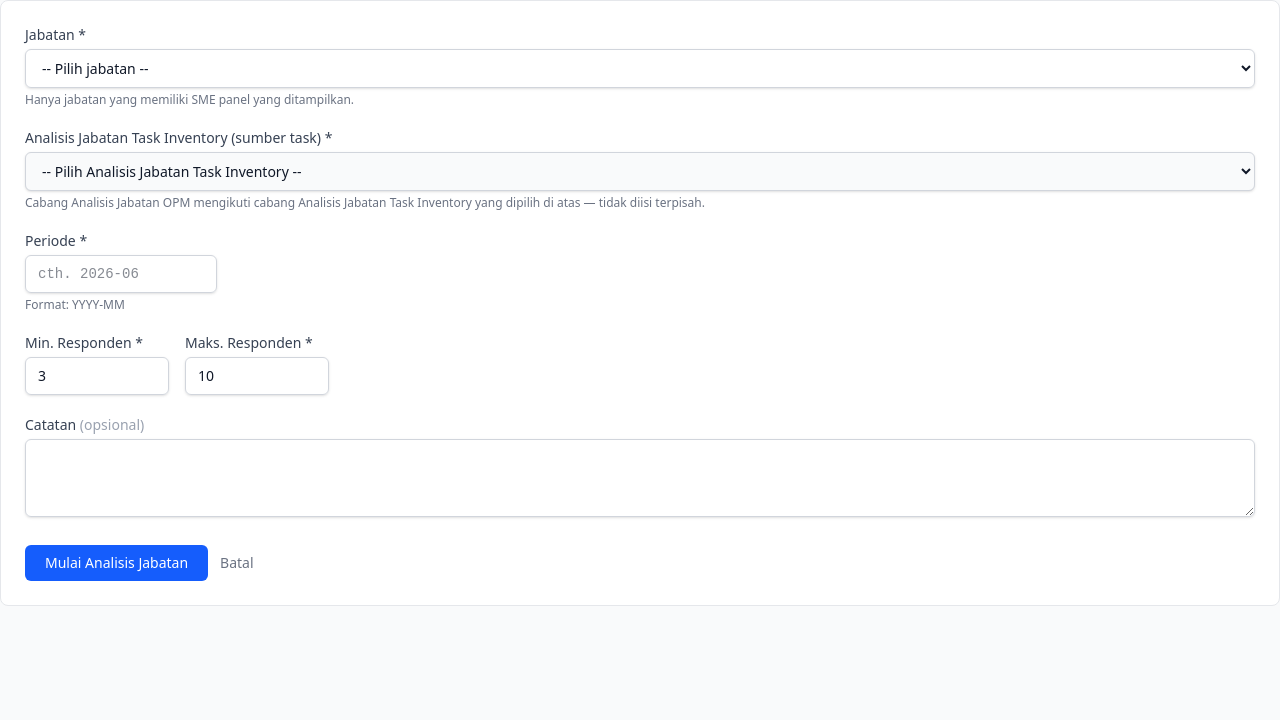
Test: OpmSesiForm — 422 backend tampil utuh › pesan backend (menyebut kedua angka) muncul di toast dan error inline
Select "Guru Kelas SD" in the dropdown labelled "Jabatan *" at (640, 68), box 25,49 -> 1255,88
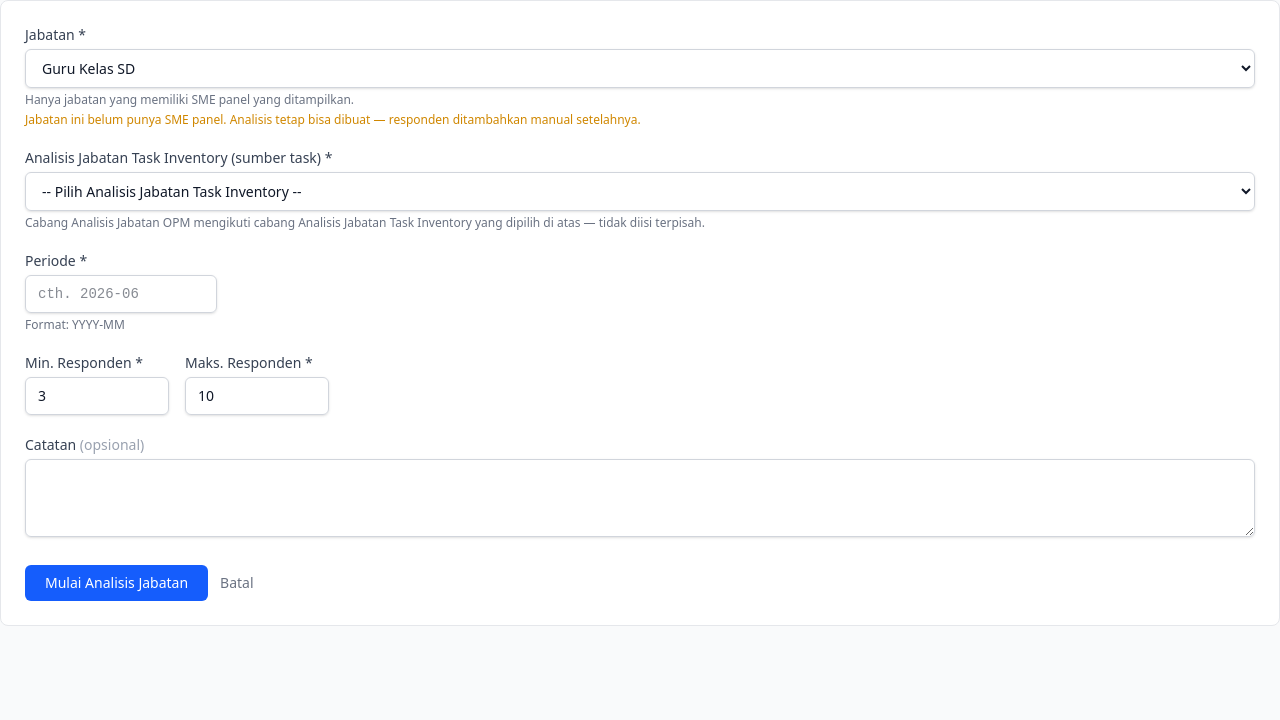
Select "Bandung — 19 task" in the dropdown labelled "Analisis Jabatan Task Inventory (sumber task) *" at (640, 192), box 25,172 -> 1255,211
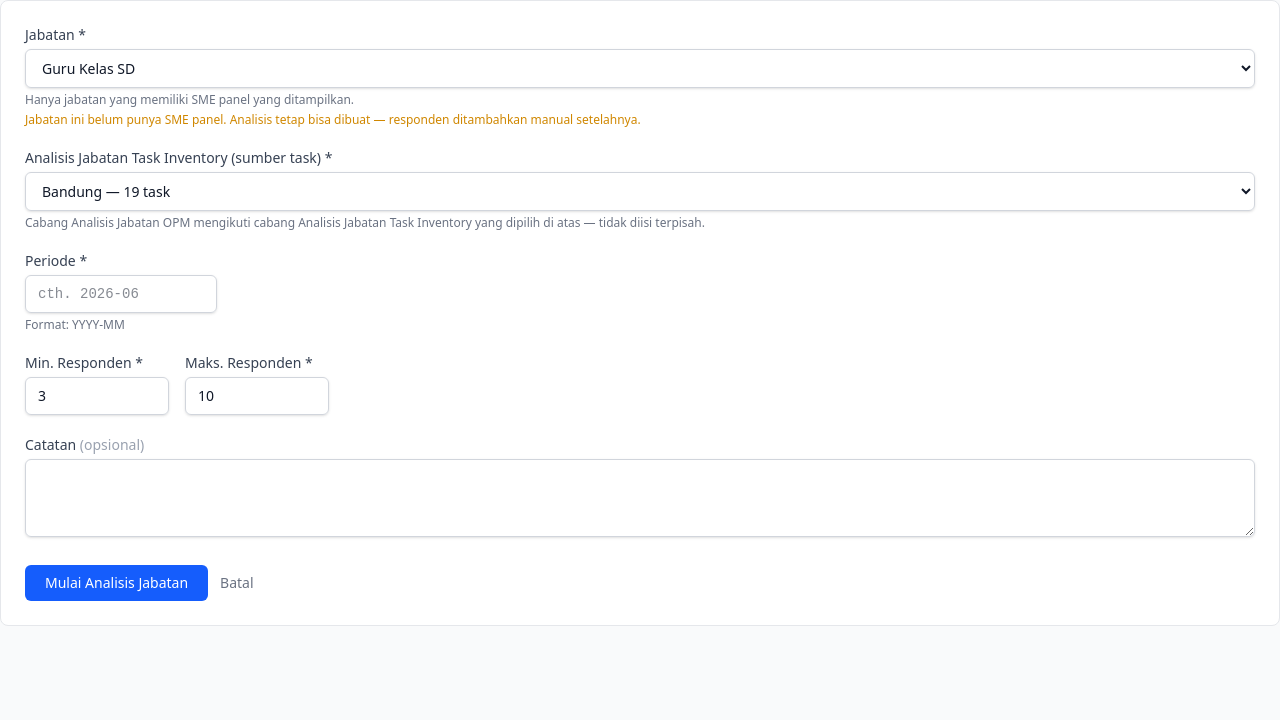
Type "2026-07" into the field labelled "Periode *" at (121, 294), box 25,275 -> 217,313
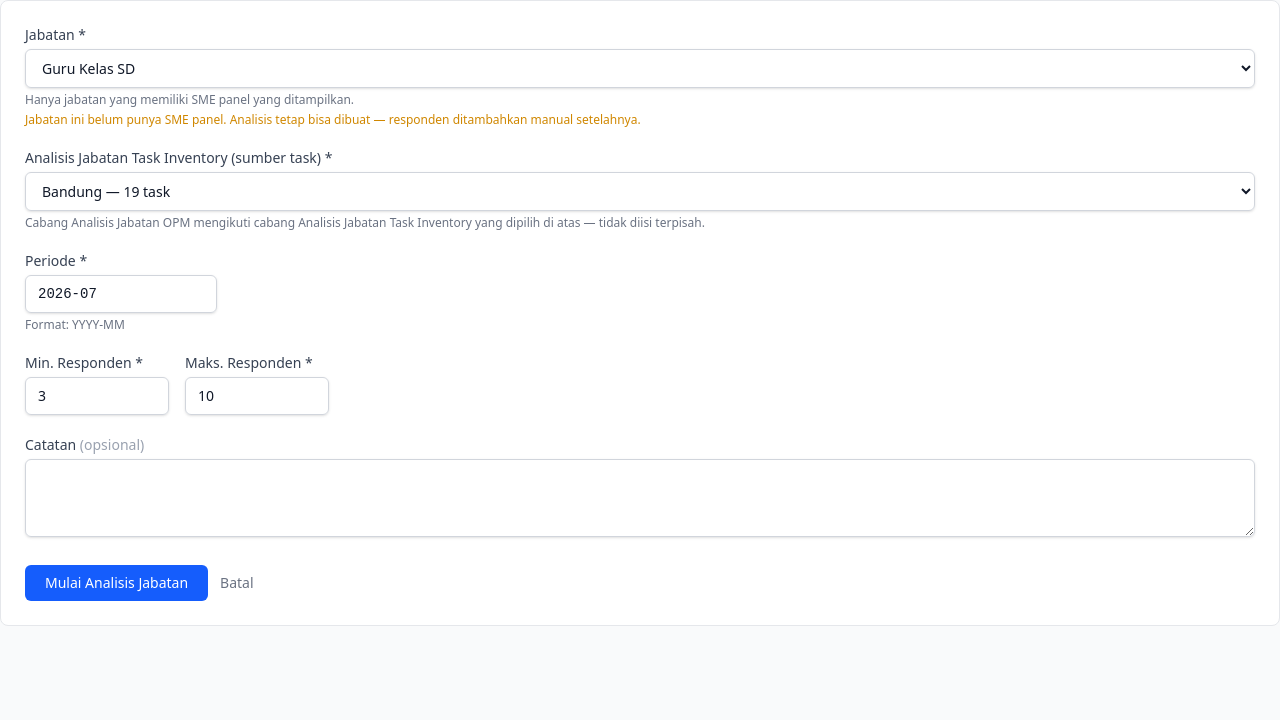
Check: the number field labelled "Maks. Responden *" holds "10", box 185,377 -> 329,415
Click the button "Mulai Analisis Jabatan" at (117, 583), box 25,565 -> 208,601
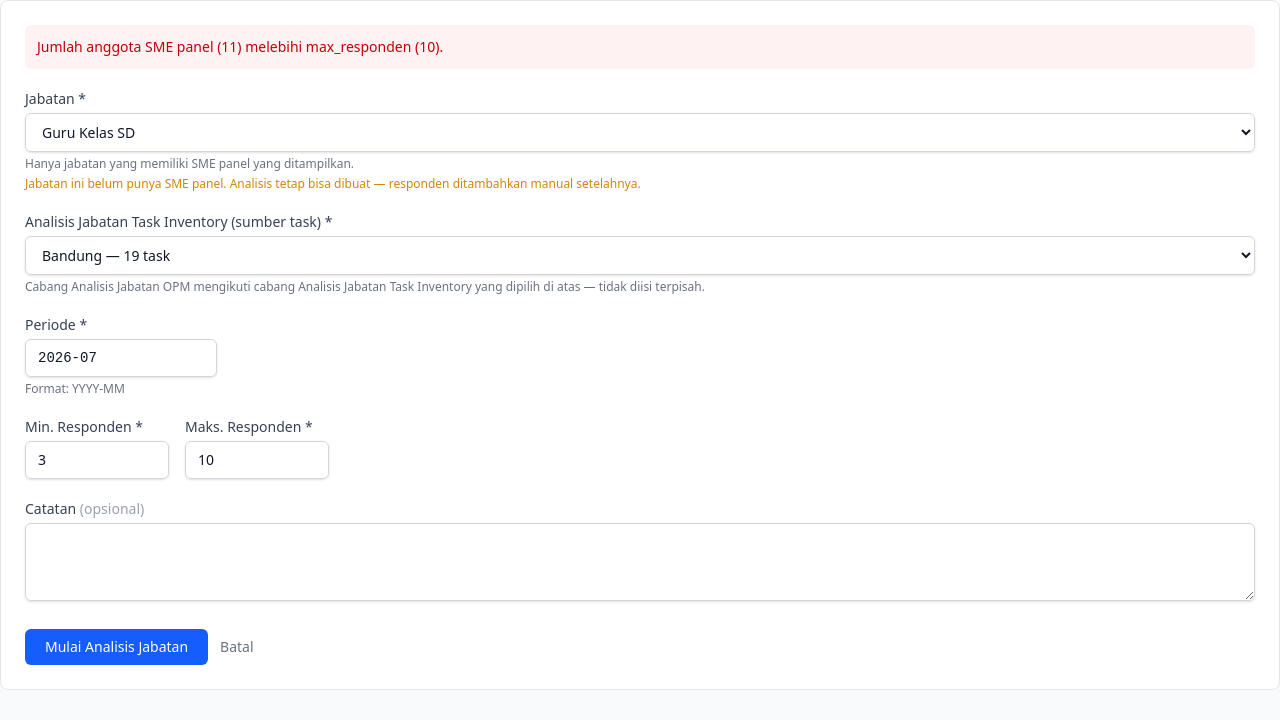
Check: the text "Jumlah anggota SME panel (11) melebihi max_responden (10)." is shown, box 25,25 -> 1255,69
